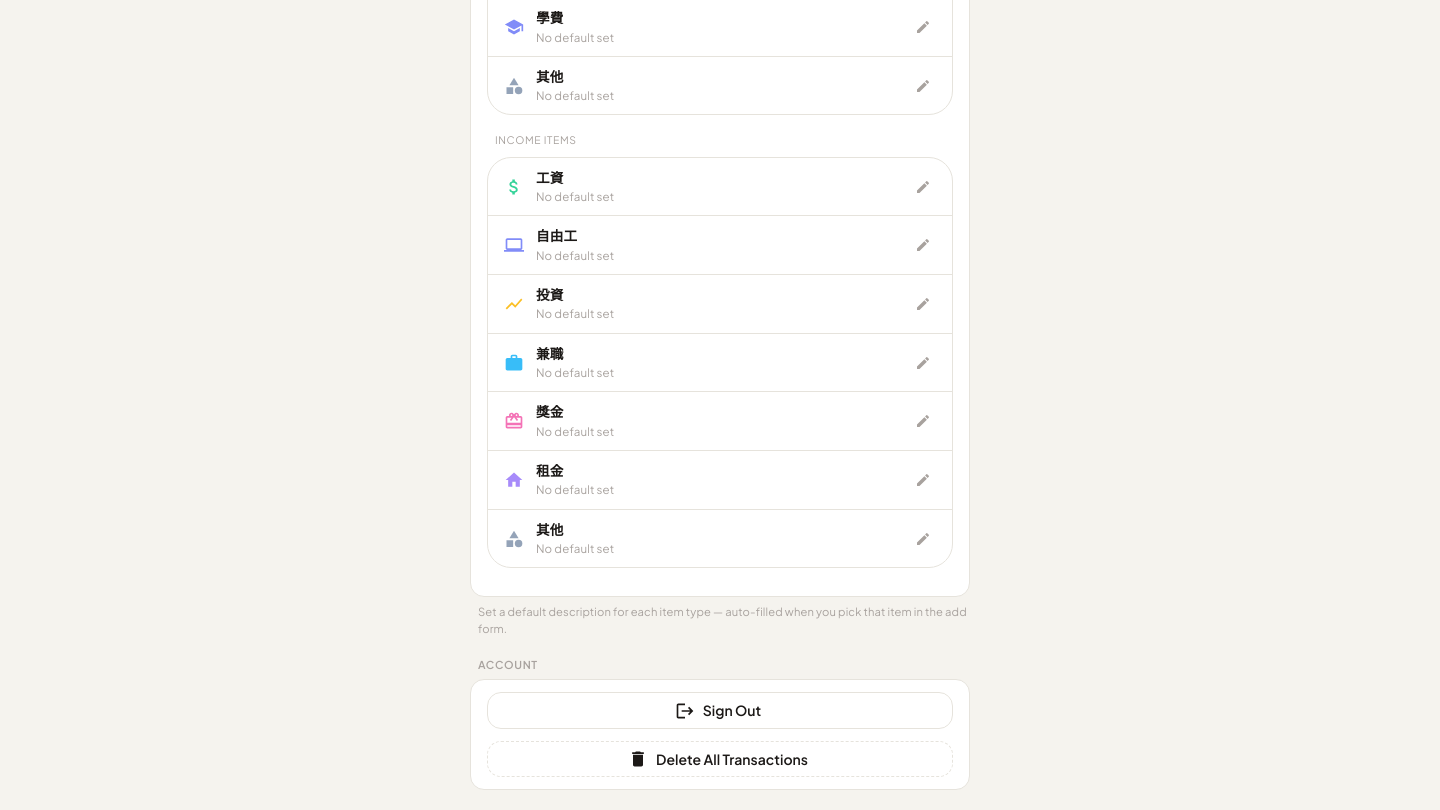
SettingsPage › Delete All opens dialog requiring DELETE confirmation
The width and height of the screenshot is (1440, 810).
(page scrolled)
Click the button "Delete All Transactions": (720, 759) [487,741,953,777]
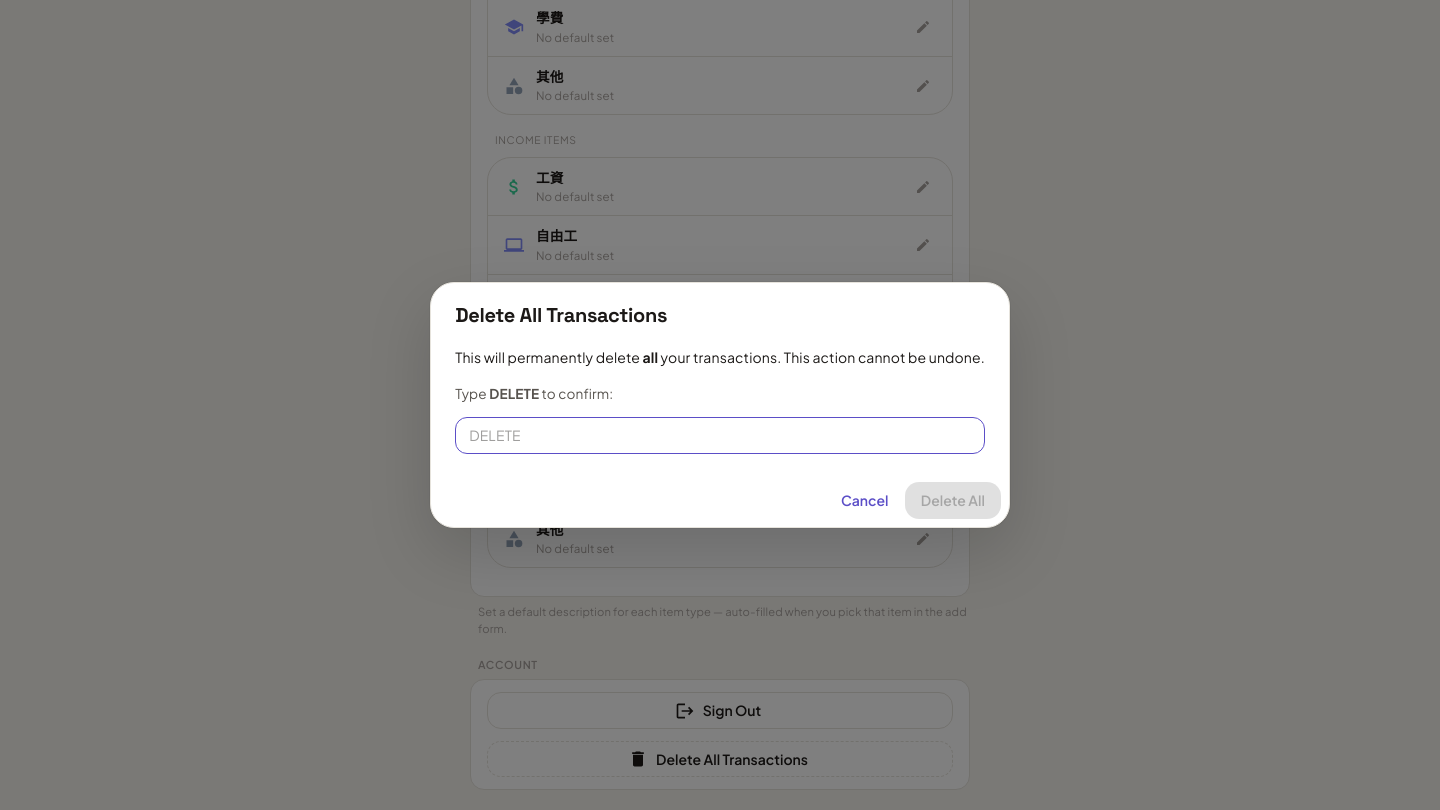
Now the field with placeholder "DELETE" is shown, box [455,417,985,454]
Now the button "Delete All" is disabled, box [905,482,1001,518]
